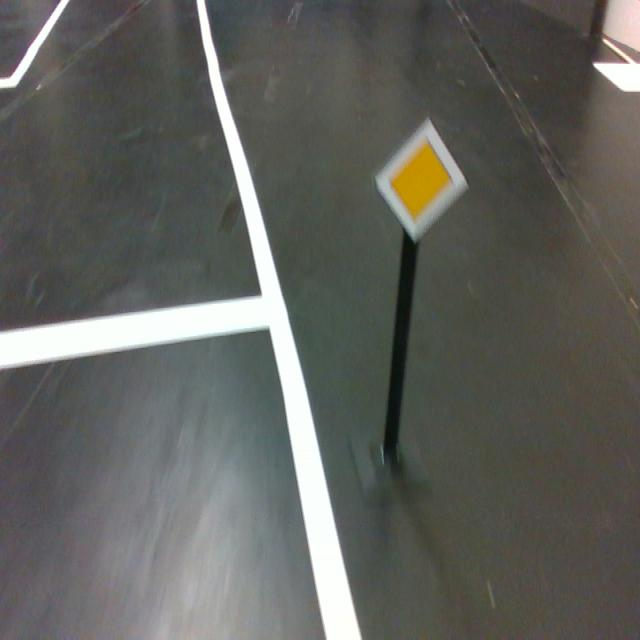priority-sign: (373, 115, 469, 245)
